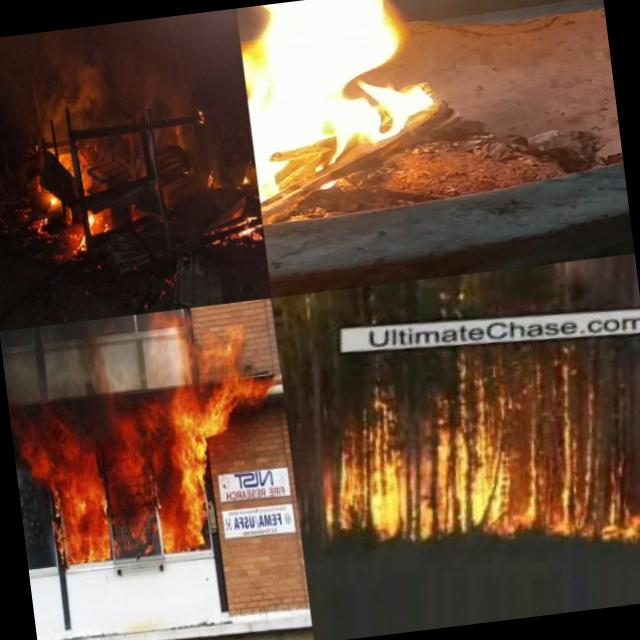fire: (0, 312, 284, 570), (313, 360, 640, 572), (236, 0, 502, 238), (234, 212, 262, 244), (46, 192, 60, 216), (193, 103, 206, 128), (86, 211, 101, 232), (239, 168, 252, 190)
smoke: (65, 322, 126, 457), (30, 56, 112, 138)
